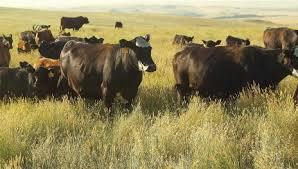cow: (58, 35, 158, 115), (172, 45, 298, 107), (262, 28, 298, 52), (60, 16, 91, 33), (0, 33, 14, 67), (225, 35, 250, 45), (173, 35, 194, 46), (115, 22, 123, 31)
